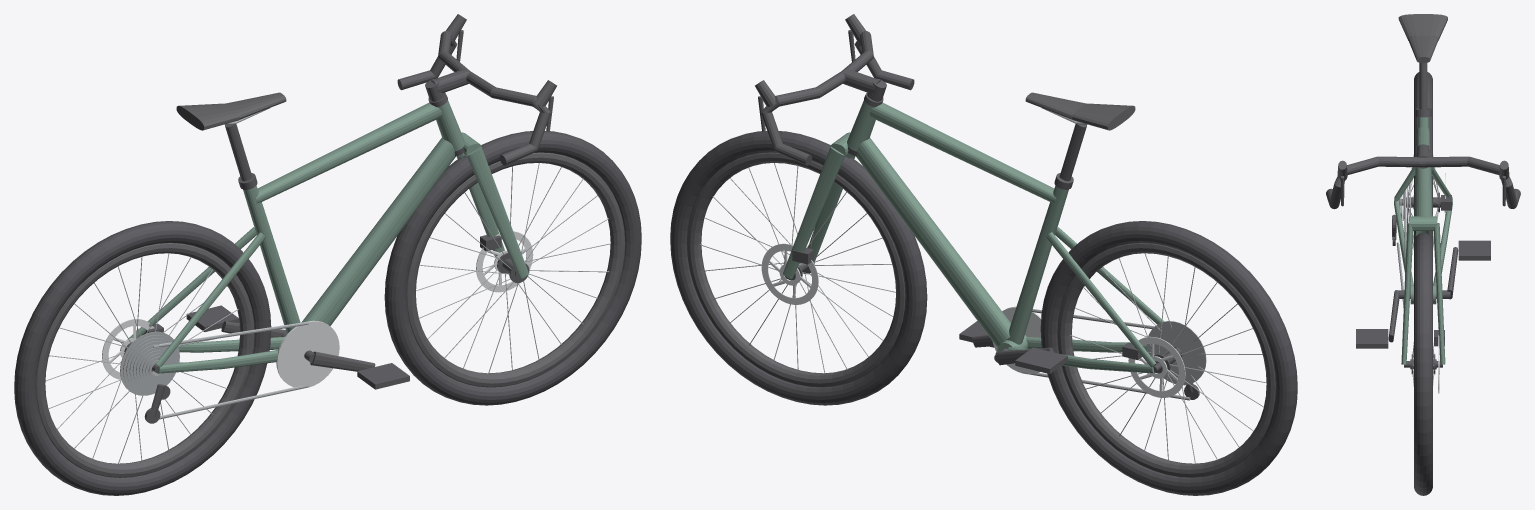
The model's file is bikerumor-state-6061-all-road-v2.glb.
3 views of the same model, side by side, from view 1: azimuth 30°, elevation 25°; view 2: azimuth 150°, elevation 25°; view 3: azimuth 270°, elevation 25° (orthographic). The views are drawn at different scales.
Parts seen in each view (by area): view 1: rear_wheel_tire, front_wheel_tire, front_wheel_rim, rear_wheel_rim, frame_downtube, frame_toptube, cockpit_dropbar, fork_rigid_blades, drivetrain_chainring, front_wheel_spokes, drivetrain_crankset, drivetrain_cassette (+12 smaller); view 2: rear_wheel_tire, front_wheel_tire, front_wheel_rim, rear_wheel_rim, frame_downtube, frame_toptube, fork_rigid_blades, cockpit_dropbar, front_wheel_spokes, frame_seattube, rear_wheel_spokes, rear_seatstays (+11 smaller); view 3: front_wheel_tire, cockpit_dropbar, fork_rigid_blades, drivetrain_crankset, saddle_shell, frame_headtube, rear_wheel_tire, rear_chainstays, cockpit_shifter_hoods, rear_seatstays, seatpost_aero, drivetrain_chain (+3 smaller).
Part boxes in pixels (x1=…): rear_wheel_tire: x1=14, y1=221, x2=271, y2=495; front_wheel_tire: x1=384, y1=131, x2=641, y2=405; front_wheel_rim: x1=406, y1=152, x2=625, y2=387; rear_wheel_rim: x1=36, y1=243, x2=254, y2=477; frame_downtube: x1=301, y1=138, x2=455, y2=326; frame_toptube: x1=255, y1=103, x2=441, y2=203; cockpit_dropbar: x1=397, y1=31, x2=551, y2=165; fork_rigid_blades: x1=456, y1=132, x2=528, y2=278; drivetrain_chainring: x1=276, y1=320, x2=339, y2=387; front_wheel_spokes: x1=416, y1=163, x2=610, y2=374; drivetrain_crankset: x1=186, y1=305, x2=409, y2=389; drivetrain_cassette: x1=120, y1=331, x2=179, y2=395; rear_wheel_tire: x1=1040, y1=221, x2=1297, y2=495; front_wheel_tire: x1=670, y1=131, x2=927, y2=405; front_wheel_rim: x1=686, y1=152, x2=905, y2=387; rear_wheel_rim: x1=1057, y1=243, x2=1275, y2=477; frame_downtube: x1=856, y1=138, x2=1010, y2=346; frame_toptube: x1=870, y1=103, x2=1056, y2=203; fork_rigid_blades: x1=783, y1=132, x2=855, y2=278; cockpit_dropbar: x1=760, y1=31, x2=914, y2=165; front_wheel_spokes: x1=699, y1=163, x2=895, y2=373; frame_seattube: x1=1006, y1=185, x2=1068, y2=344; rear_wheel_spokes: x1=1069, y1=253, x2=1266, y2=463; rear_seatstays: x1=1046, y1=227, x2=1164, y2=367; front_wheel_tire: x1=1414, y1=232, x2=1432, y2=495; cockpit_dropbar: x1=1326, y1=156, x2=1520, y2=209; fork_rigid_blades: x1=1401, y1=216, x2=1445, y2=364; drivetrain_crankset: x1=1356, y1=240, x2=1490, y2=348; saddle_shell: x1=1398, y1=14, x2=1447, y2=62; frame_headtube: x1=1414, y1=167, x2=1432, y2=216; rear_wheel_tire: x1=1414, y1=72, x2=1432, y2=240; rear_chainstays: x1=1394, y1=200, x2=1452, y2=289; cockpit_shifter_hoods: x1=1337, y1=160, x2=1509, y2=206; rear_seatstays: x1=1394, y1=167, x2=1452, y2=201; seatpost_aero: x1=1419, y1=63, x2=1427, y2=109; drivetrain_chain: x1=1397, y1=190, x2=1406, y2=307.
Size of the model in its own units: 1.76 by 0.9893 by 0.5316.
